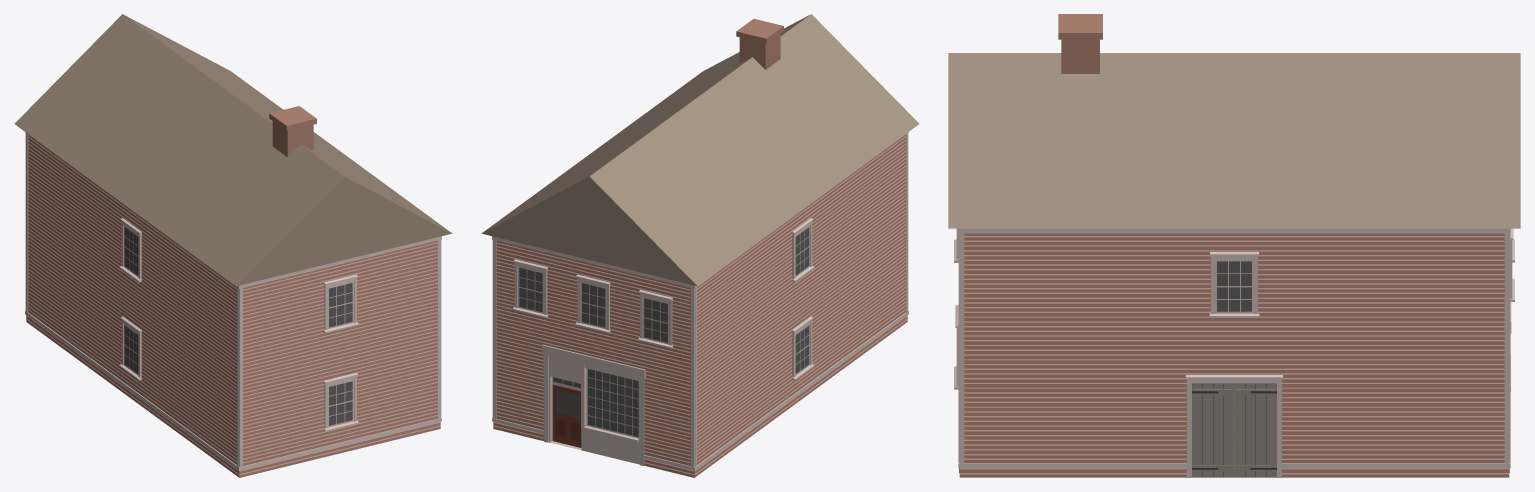
Rendered from recon_1835_core_c3_011__inferred_1835.glb.
The picture shows the model from 3 angles, left to right: view 1: azimuth 30°, elevation 25°; view 2: azimuth 150°, elevation 25°; view 3: azimuth 270°, elevation 25°; orthographic projection. The views are drawn at different scales.
Parts seen in each view (by area): view 1: recon_1835_core_c3_011__inferred_1835; view 2: recon_1835_core_c3_011__inferred_1835; view 3: recon_1835_core_c3_011__inferred_1835.
Part boxes in pixels (x1=…): recon_1835_core_c3_011__inferred_1835: x1=14, y1=14, x2=452, y2=477; recon_1835_core_c3_011__inferred_1835: x1=481, y1=14, x2=919, y2=477; recon_1835_core_c3_011__inferred_1835: x1=948, y1=14, x2=1520, y2=477.
Bounding box in the file's own units: 7.03 × 9.4 × 12.48.
